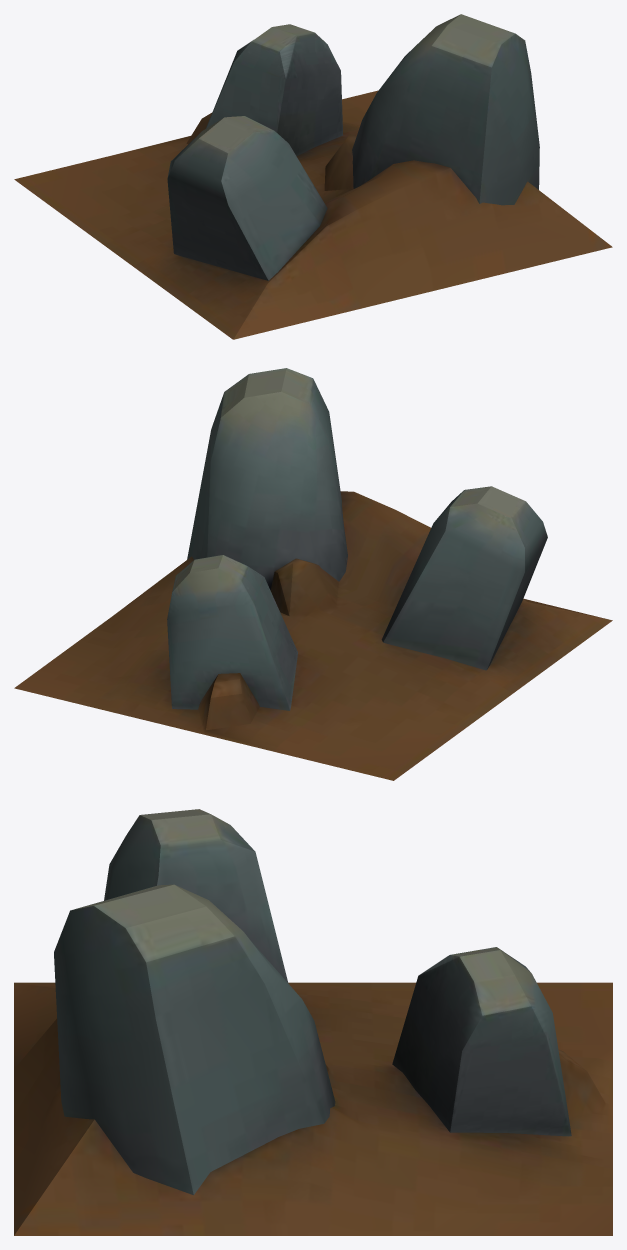
The model's file is OBJ_SmallRock_10.obj.
3 renders of one model, top to bottom at view 1: azimuth 30°, elevation 25°; view 2: azimuth 150°, elevation 25°; view 3: azimuth 270°, elevation 25°, orthographic. The views are drawn at different scales.
Visible parts, largest first — view 1: OBJ_SmallRock_10; view 2: OBJ_SmallRock_10; view 3: OBJ_SmallRock_10.
Part boxes in pixels (<box>): OBJ_SmallRock_10: <box>14,14,612,339</box>; OBJ_SmallRock_10: <box>14,368,612,780</box>; OBJ_SmallRock_10: <box>14,809,612,1235</box>.
Size of the model in its own units: 1.8 by 0.9456 by 1.8.
Materials: 1 (1 with a texture image).
